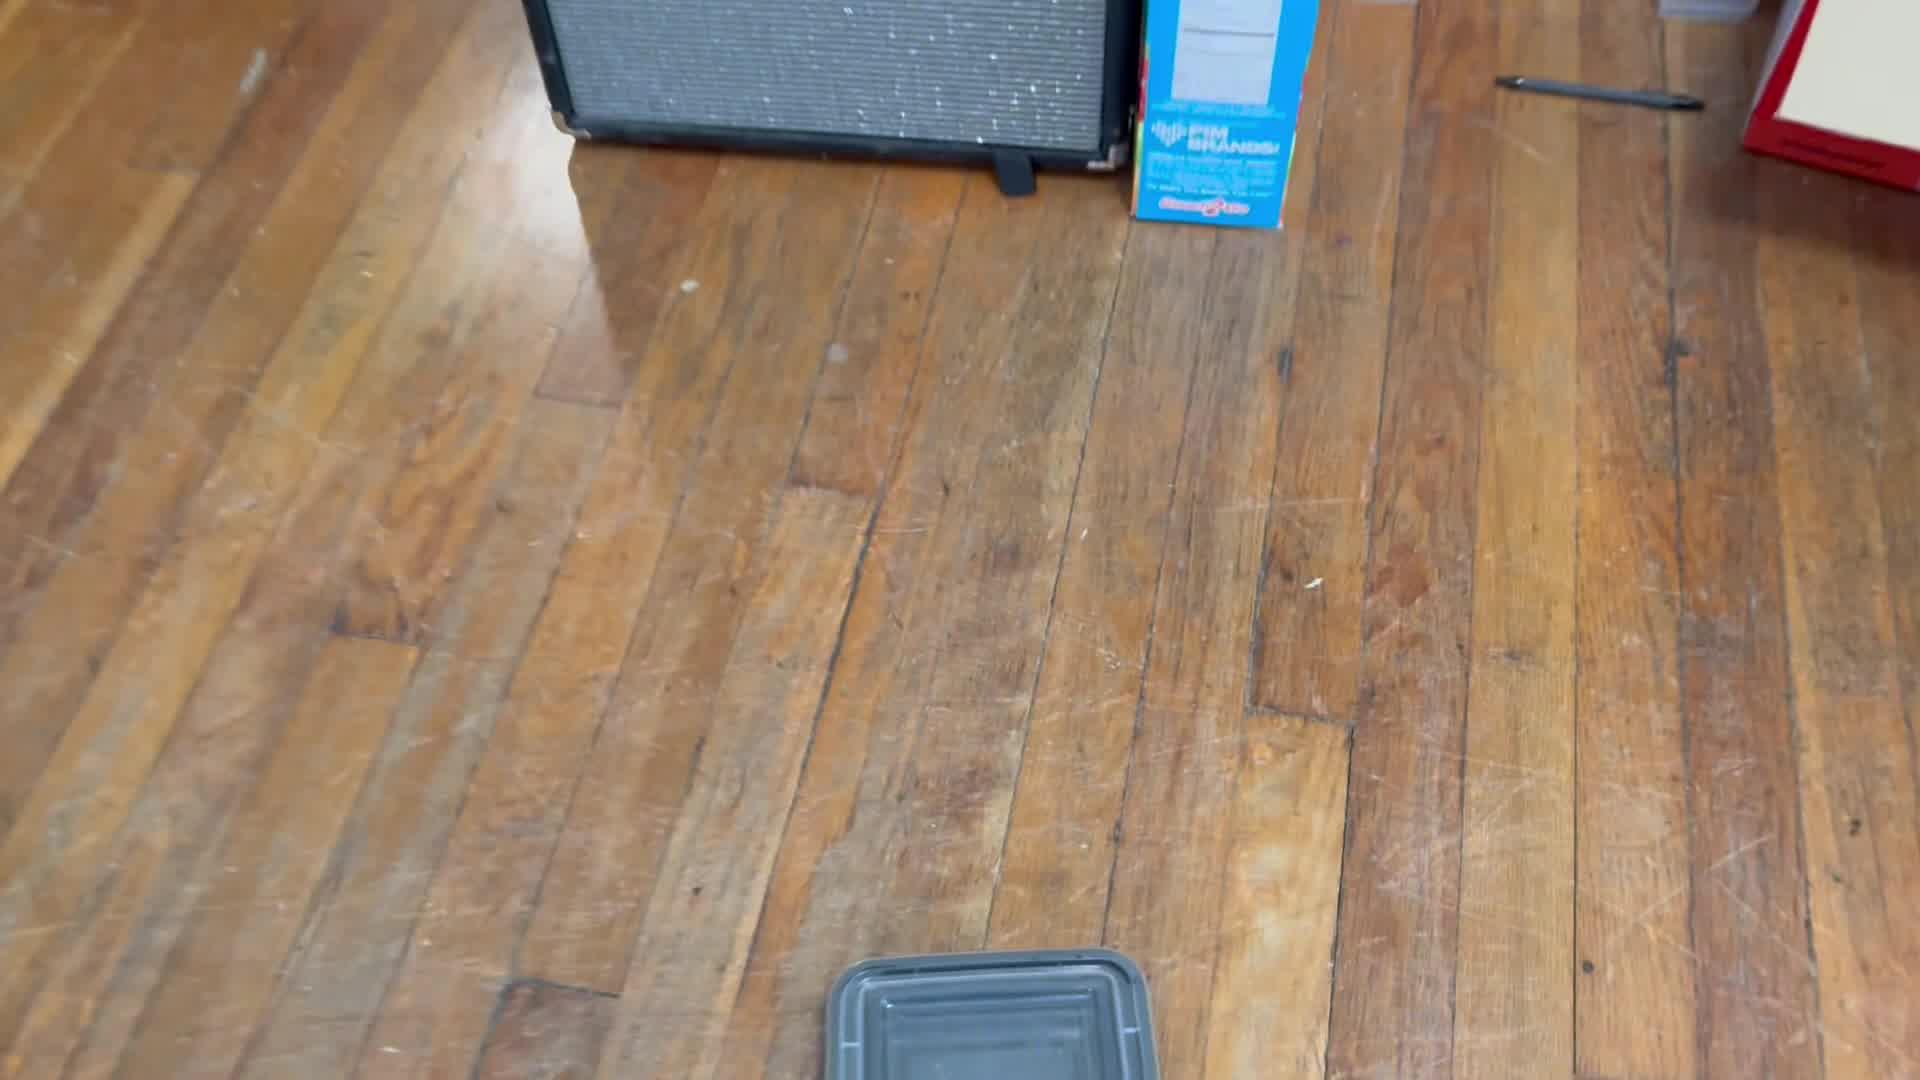lp_cup_lids: (815, 947, 1172, 1080)
